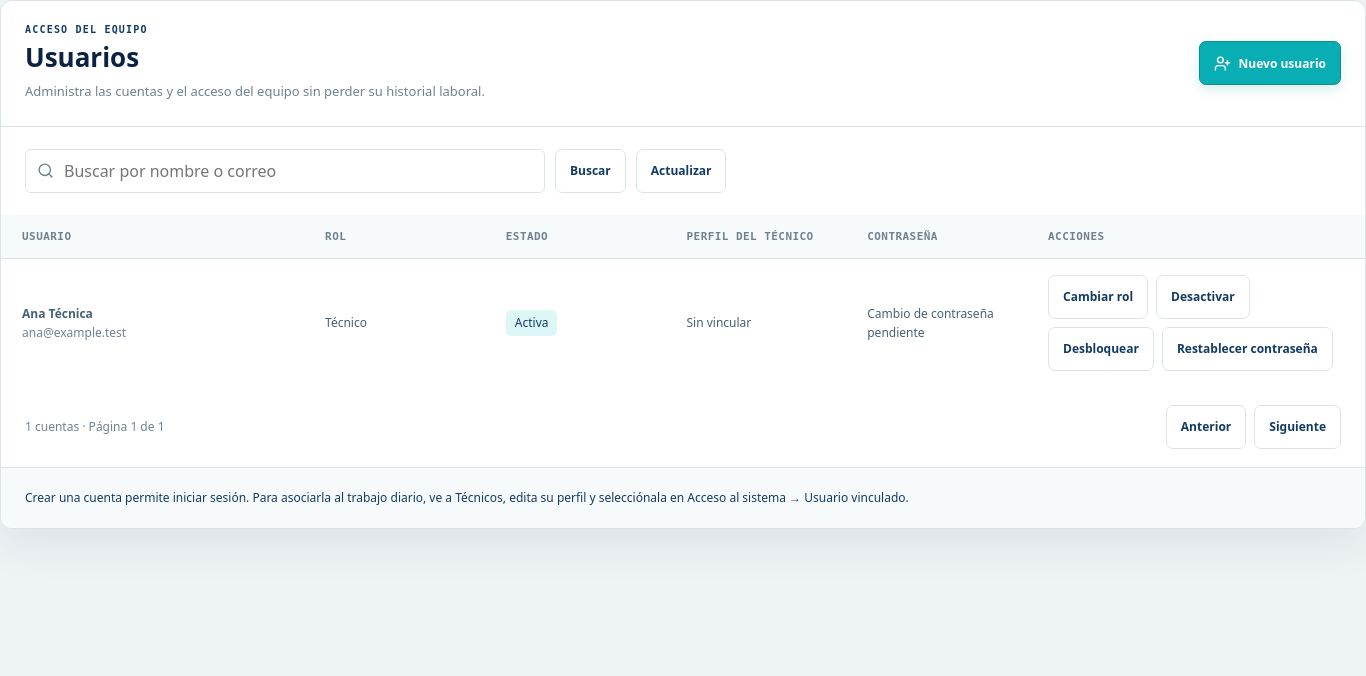
it: usuarios en configuración › valida la contraseña temporal, restablece y limpia los campos secretos
Click the button "Restablecer contraseña" at [1247, 349], box [1162,327,1333,371]
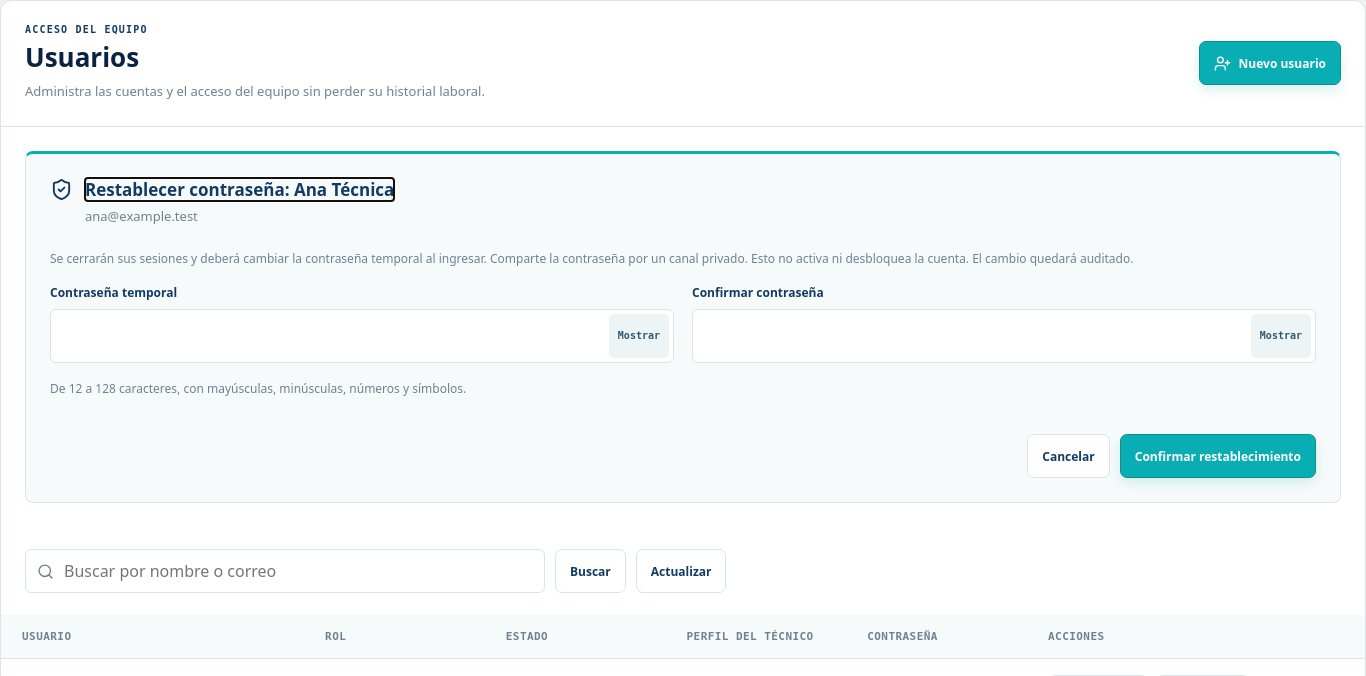
Type "NuevaTemporal-2026!" into the password field labelled "Contraseña temporal" at [362, 336], box [50,309,674,363]
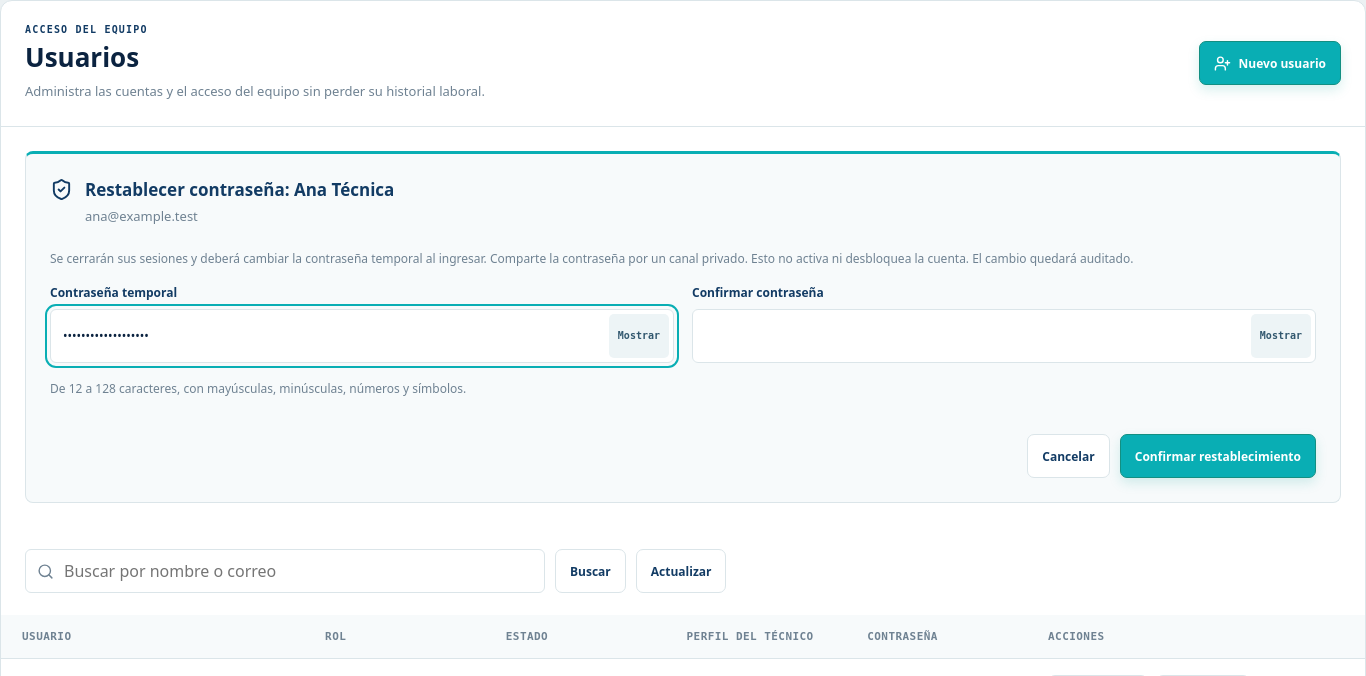
Type "DiferenteTemporal-2026!" into the password field labelled "Confirmar contraseña" at [1004, 336], box [692,309,1316,363]
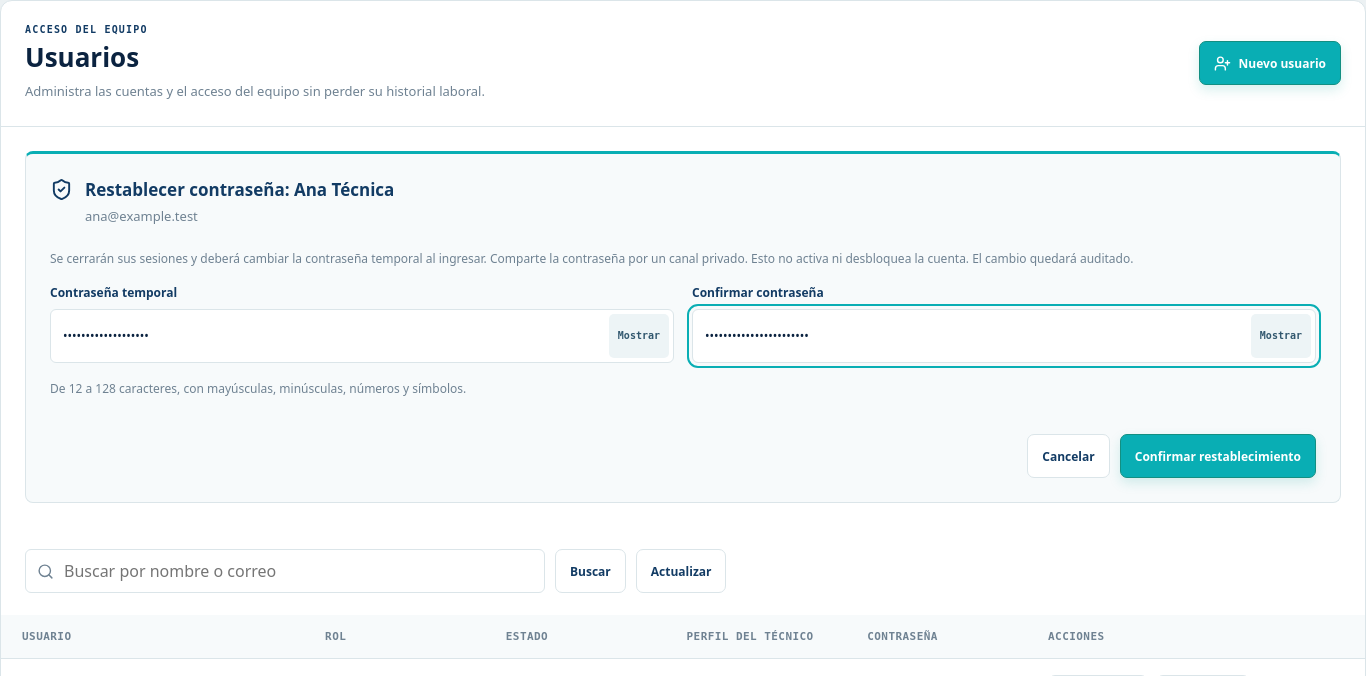
Click the button "Confirmar restablecimiento" at [1218, 456], box [1120,434,1316,478]
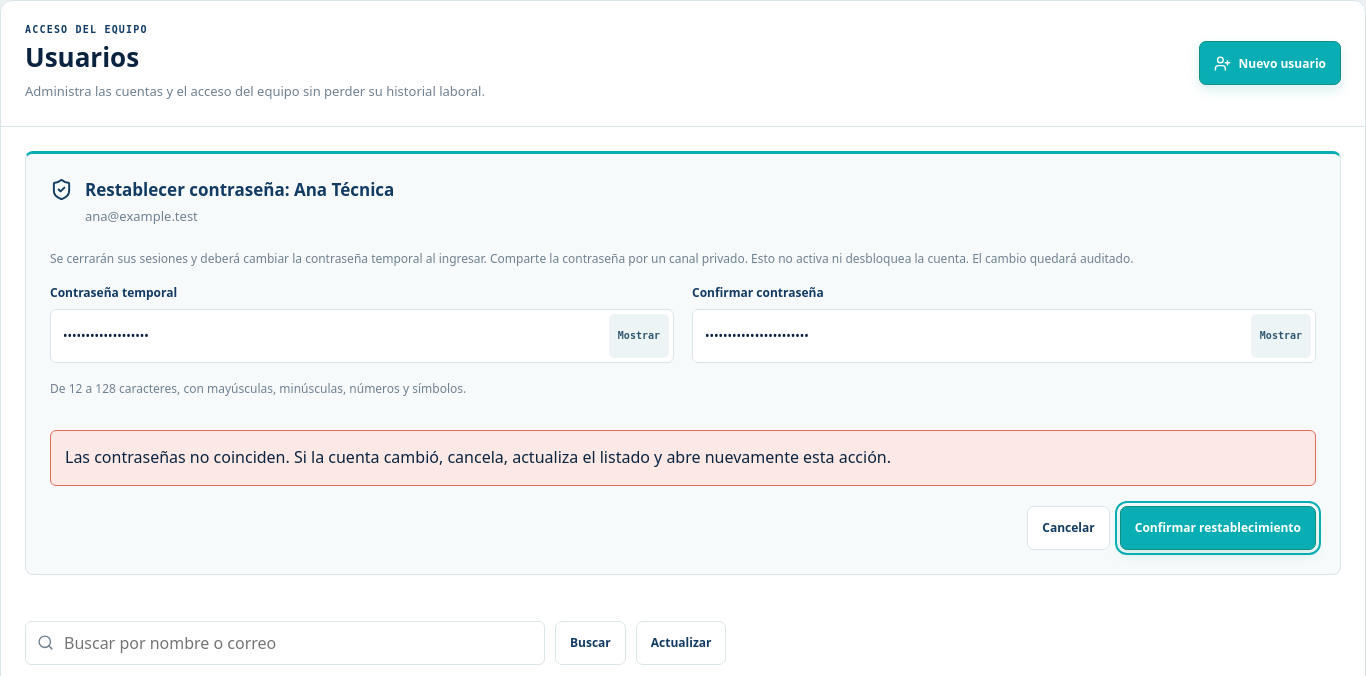
Check: the message shows "Las contraseñas no coinciden", box [65,446,286,468]
Type "NuevaTemporal-2026!" into the password field labelled "Confirmar contraseña" at [1004, 336], box [692,309,1316,363]
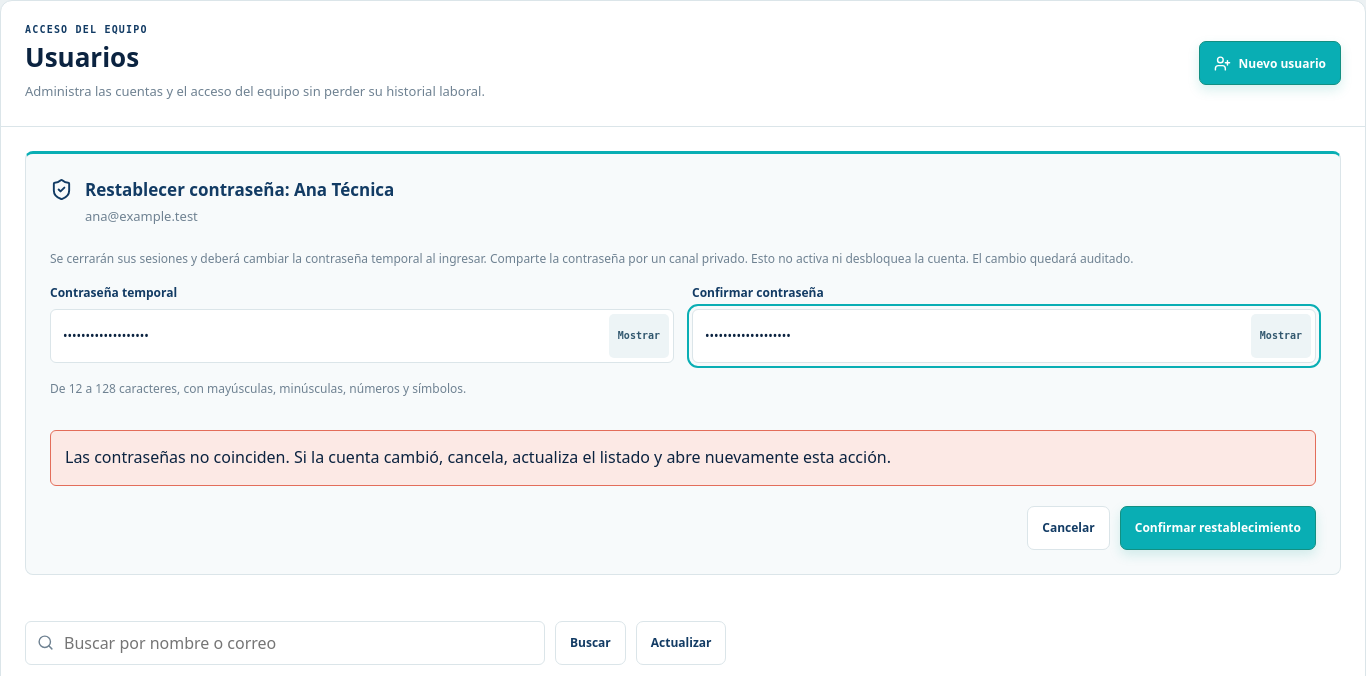
Click the button "Confirmar restablecimiento" at [1218, 528], box [1120,506,1316,550]
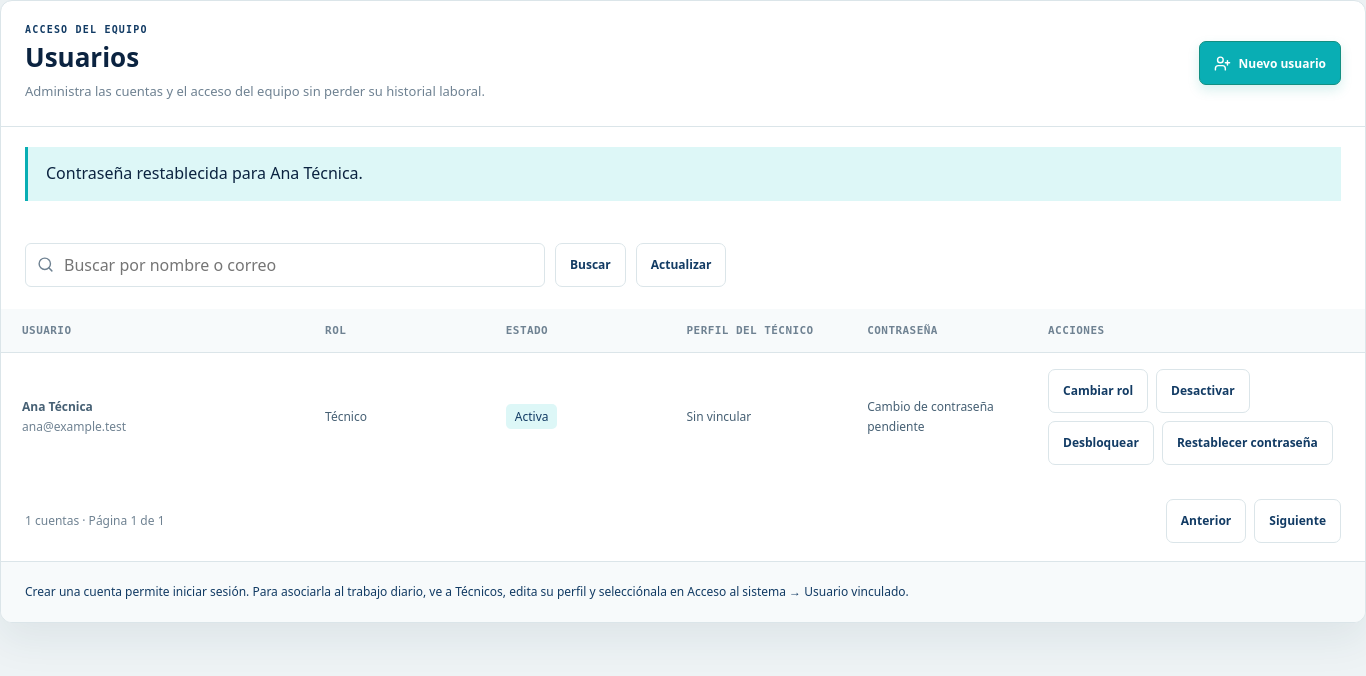
Check: the message shows "Contraseña restablecida", box [46,162,363,184]
Check: the text labelled "contraseña temporal" is gone
